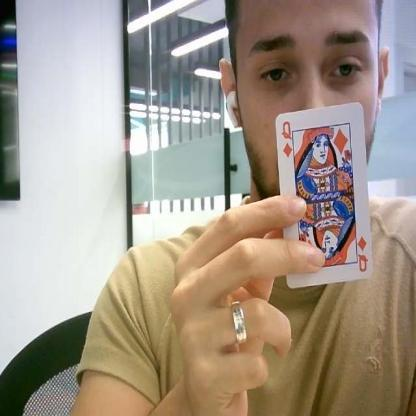QD: (356, 233, 368, 274), (281, 118, 292, 160)
